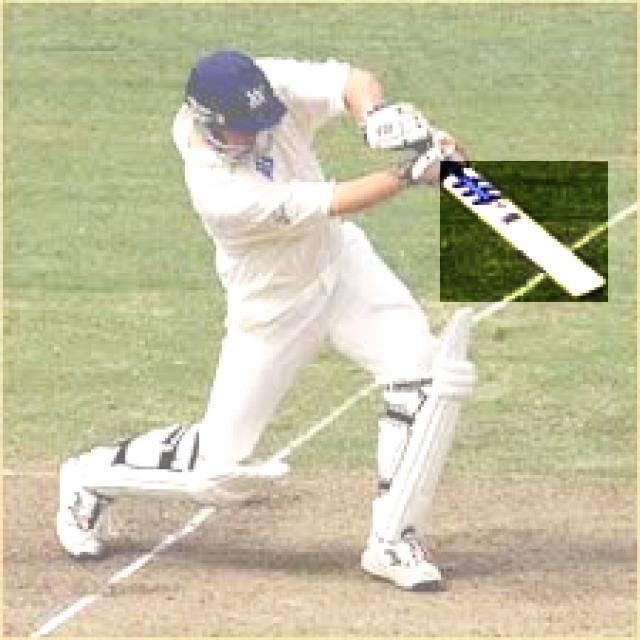bat: (437, 163, 611, 303)
toe: (578, 284, 608, 301)
